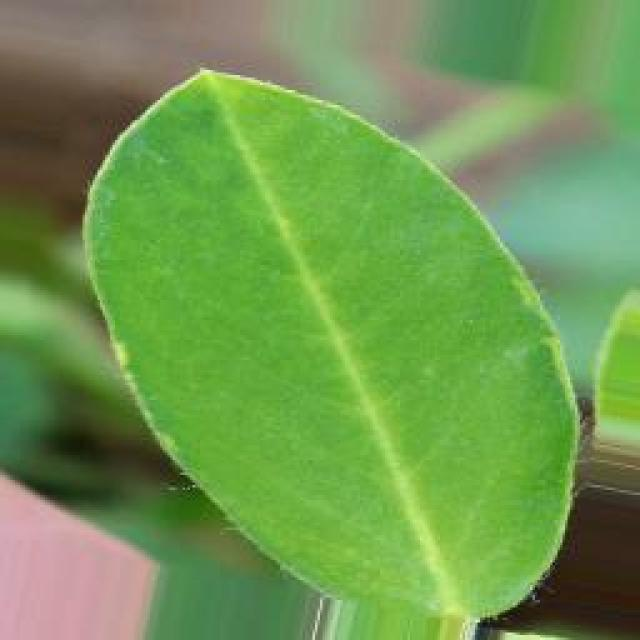Yellow_and_black_sigatoka: (86, 71, 596, 634)
